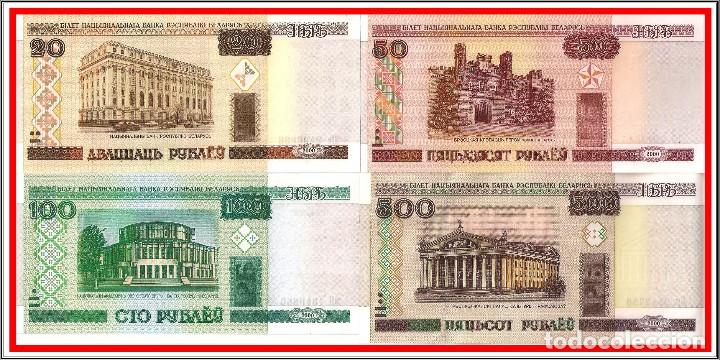belarus_ruble_500: (370, 174, 556, 360)
